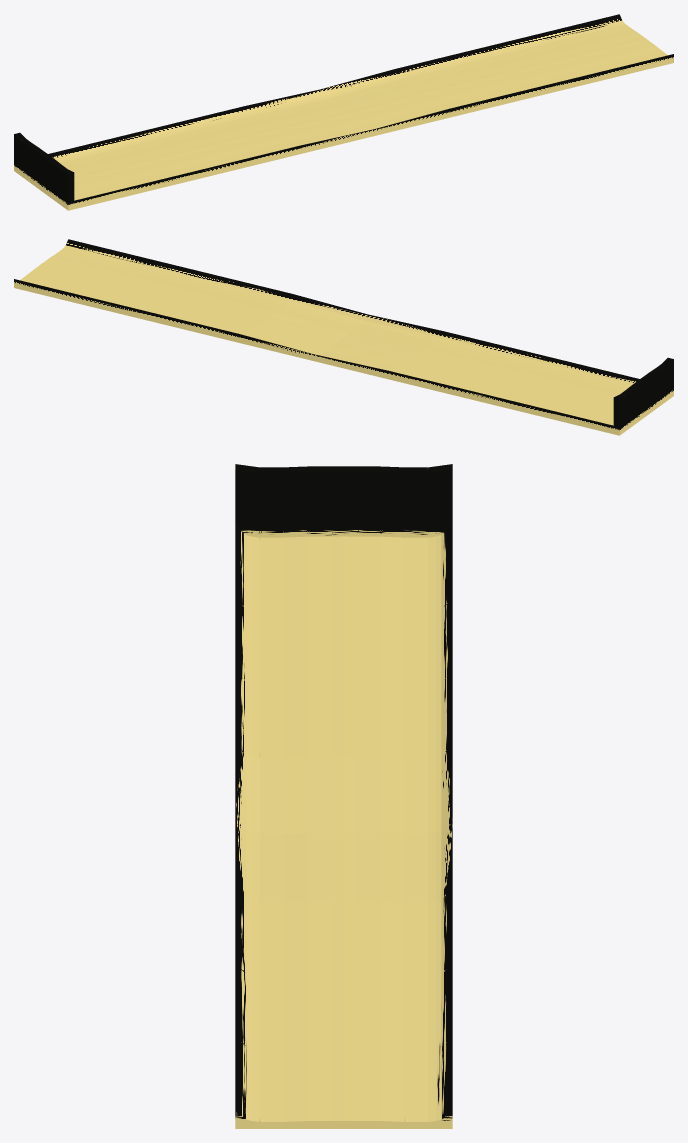
Rendered from CanchaBochas.glb.
3 renders of one model, top to bottom at view 1: azimuth 30°, elevation 25°; view 2: azimuth 150°, elevation 25°; view 3: azimuth 270°, elevation 25°, orthographic. The views are drawn at different scales.
Parts seen in each view (by area): view 1: LowPolyCourt; view 2: LowPolyCourt; view 3: LowPolyCourt.
Boxes of the visible parts, x1,y1,x2,y2 form: LowPolyCourt: (14, 14, 673, 210); LowPolyCourt: (14, 239, 673, 435); LowPolyCourt: (235, 464, 452, 1128).
Size of the model in its own units: 63.41 by 3.69 by 9.85.
Materials: 1 (1 with a texture image).
